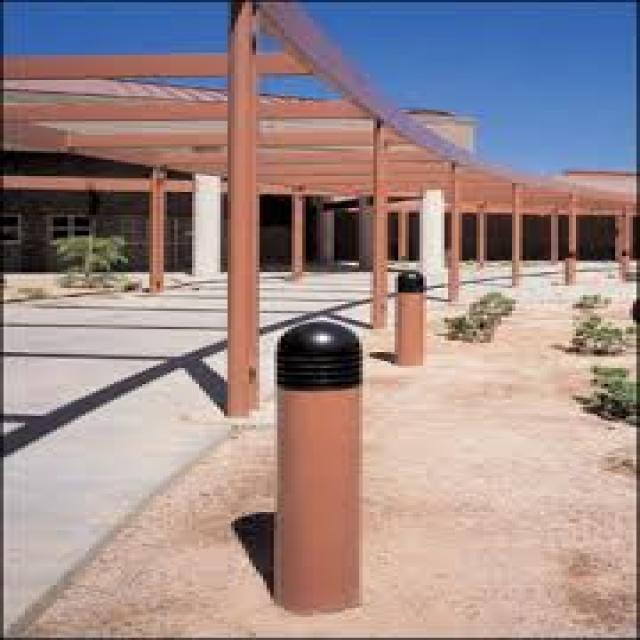bollard: (266, 317, 370, 619), (386, 270, 436, 367)
